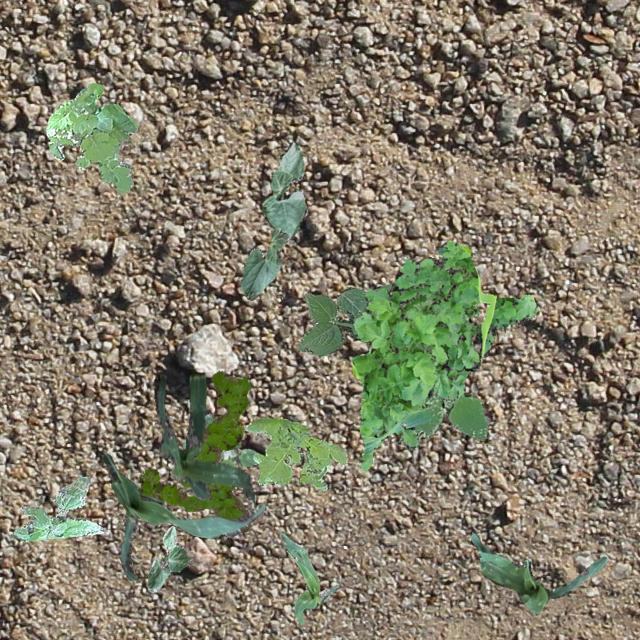crop: (102, 450, 264, 580), (154, 372, 254, 502), (469, 532, 606, 612), (280, 532, 338, 624), (262, 140, 306, 237), (240, 227, 288, 300), (146, 526, 192, 592)
weed: (350, 240, 536, 470), (138, 370, 250, 530), (44, 82, 136, 192), (245, 416, 346, 489), (296, 282, 391, 354), (12, 476, 102, 540), (414, 368, 486, 443), (202, 412, 258, 467)
